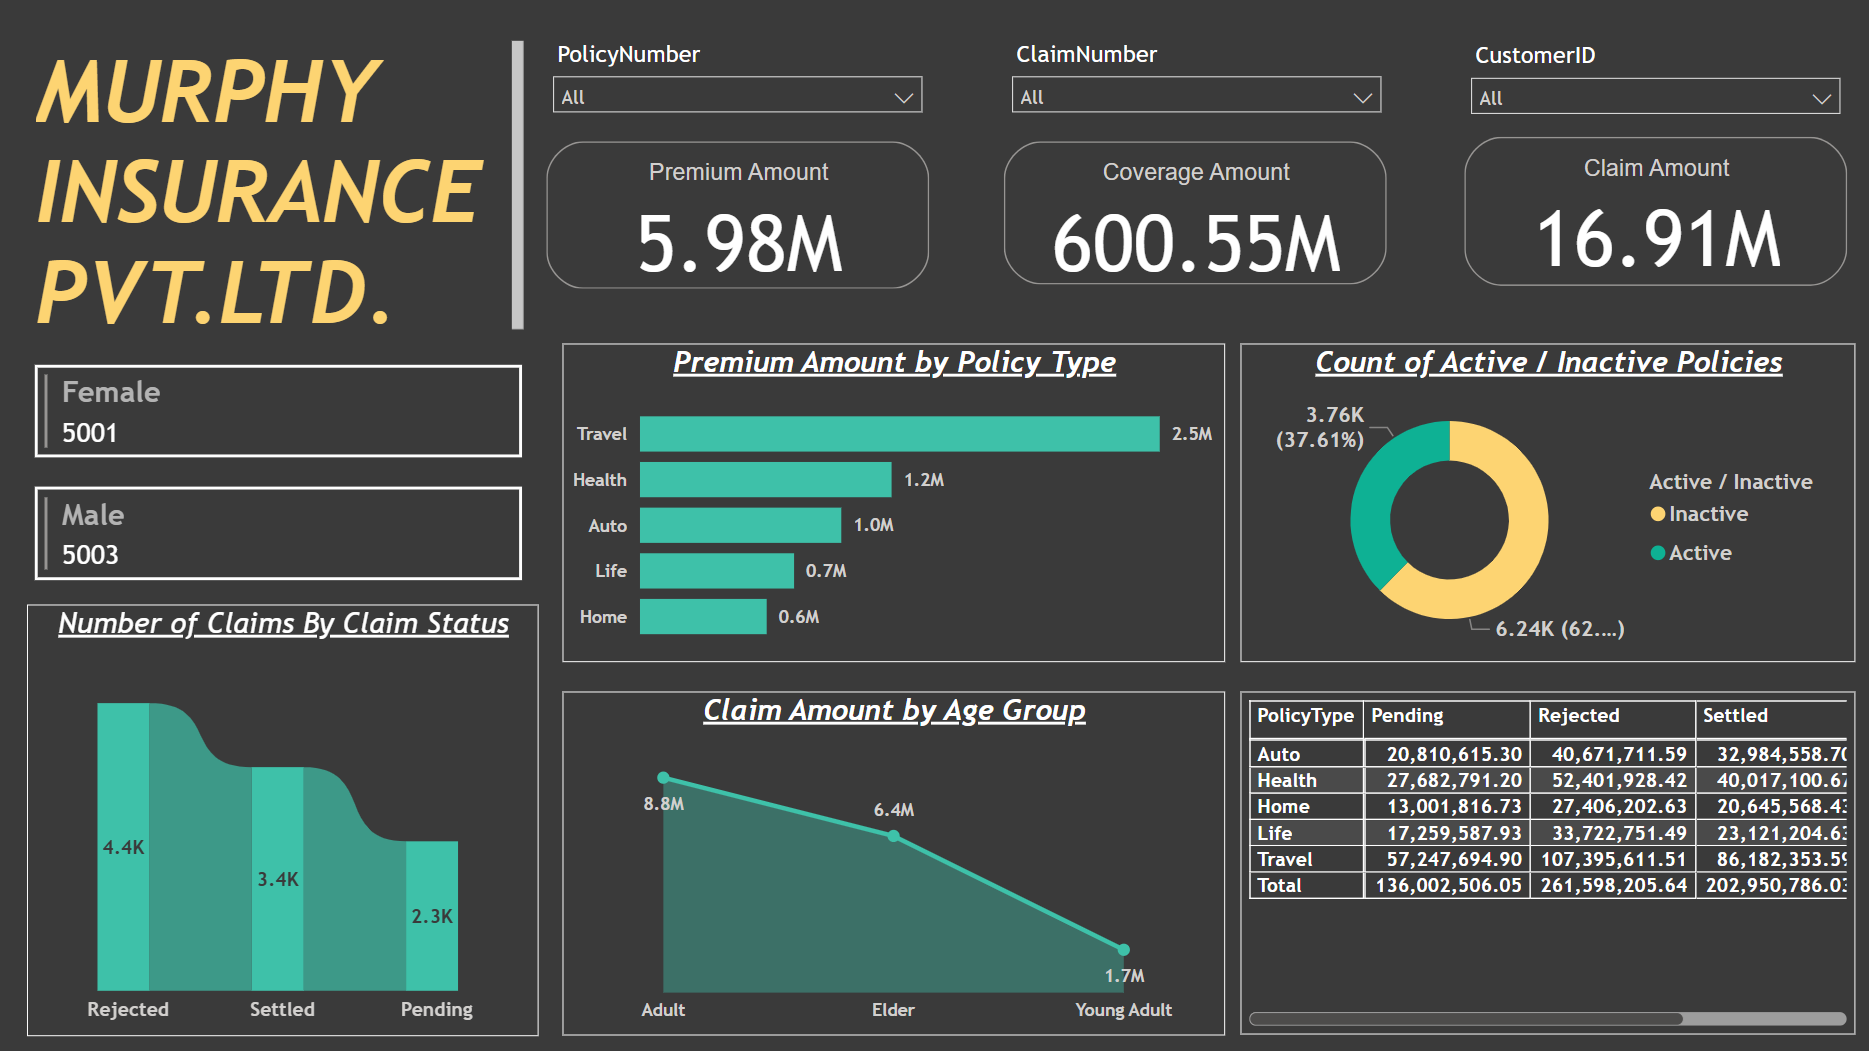

The dashboard page shown, as its layout file describes it:
{"tool":"powerbi","page":{"name":"Page 1","canvas":[1280,720],"ordinal":0},"visuals":[{"type":"slicer","fields":{"Values":["InsuranceData.CustomerID"]},"box":[996.3,22.7,272.6,75.7],"z":0},{"type":"slicer","fields":{"Values":["InsuranceData.ClaimNumber"]},"box":[682.9,21.2,272.6,75.7],"z":1000},{"type":"slicer","fields":{"Values":["InsuranceData.PolicyNumber"]},"box":[368,21.2,272.6,75.7],"z":2000},{"type":"textbox","box":[19.7,22.7,343.7,212],"z":3000},{"type":"cardVisual","fields":{"Data":["Sum(InsuranceData.PremiumAmount)"]},"box":[368,91.7,272.4,111],"z":4000},{"type":"cardVisual","fields":{"Data":["Sum(InsuranceData.CoverageAmount)"]},"box":[681.8,91.7,272.4,108.5],"z":5000},{"type":"cardVisual","fields":{"Data":["Sum(InsuranceData.ClaimAmount)"]},"box":[996.8,87.8,272.4,112.3],"z":6000},{"type":"multiRowCard","fields":{"Values":["InsuranceData.Gender","CountNonNull(InsuranceData.Gender)"]},"box":[18.2,243.8,343.7,181.7],"z":7000},{"type":"ribbonChart","title":"Number of Claims  By Claim Status ","fields":{"Category":["InsuranceData.ClaimStatus"],"Y":["CountNonNull(InsuranceData.ClaimStatus)"]},"box":[18.2,413.4,349.8,295.3],"z":8000},{"type":"barChart","title":"Premium Amount by Policy Type","fields":{"Category":["InsuranceData.PolicyType"],"Y":["Sum(InsuranceData.PremiumAmount)"]},"box":[384.8,235,453.2,218.2],"z":9000},{"type":"lineChart","title":"Claim Amount by Age Group","fields":{"Category":["InsuranceData.Age Group"],"Y":["Sum(InsuranceData.ClaimAmount)"]},"box":[385,473,453,235],"z":10000},{"type":"donutChart","title":"Count of Active / Inactive Policies","fields":{"Category":["InsuranceData.Active / Inactive"],"Y":["CountNonNull(InsuranceData.Active / Inactive)"]},"box":[848.3,235,420.9,218.2],"z":11000},{"type":"pivotTable","fields":{"Values":["Sum(InsuranceData.CoverageAmount)"],"Columns":["InsuranceData.ClaimStatus"],"Rows":["InsuranceData.PolicyType"]},"box":[848.3,472.6,420.9,235],"z":12000}]}

Visuals, with their boxes in screenshot pixels (x1, y1, x2, y2), scaled from the page's 1280x720 canvas onto the 1869x1051 screenshot:
slicer - InsuranceData.CustomerID: {"x1": 1455, "y1": 33, "x2": 1853, "y2": 144}
slicer - InsuranceData.ClaimNumber: {"x1": 997, "y1": 31, "x2": 1395, "y2": 141}
slicer - InsuranceData.PolicyNumber: {"x1": 537, "y1": 31, "x2": 935, "y2": 141}
textbox: {"x1": 29, "y1": 33, "x2": 531, "y2": 343}
cardVisual - Sum(InsuranceData.PremiumAmount): {"x1": 537, "y1": 134, "x2": 935, "y2": 296}
cardVisual - Sum(InsuranceData.CoverageAmount): {"x1": 996, "y1": 134, "x2": 1393, "y2": 292}
cardVisual - Sum(InsuranceData.ClaimAmount): {"x1": 1455, "y1": 128, "x2": 1853, "y2": 292}
multiRowCard - InsuranceData.Gender x CountNonNull(InsuranceData.Gender): {"x1": 27, "y1": 356, "x2": 528, "y2": 621}
"Number of Claims  By Claim Status " ribbonChart: {"x1": 27, "y1": 603, "x2": 537, "y2": 1035}
"Premium Amount by Policy Type" barChart: {"x1": 562, "y1": 343, "x2": 1224, "y2": 662}
"Claim Amount by Age Group" lineChart: {"x1": 562, "y1": 690, "x2": 1224, "y2": 1033}
"Count of Active / Inactive Policies" donutChart: {"x1": 1239, "y1": 343, "x2": 1853, "y2": 662}
pivotTable - Sum(InsuranceData.CoverageAmount) x InsuranceData.ClaimStatus: {"x1": 1239, "y1": 690, "x2": 1853, "y2": 1033}
